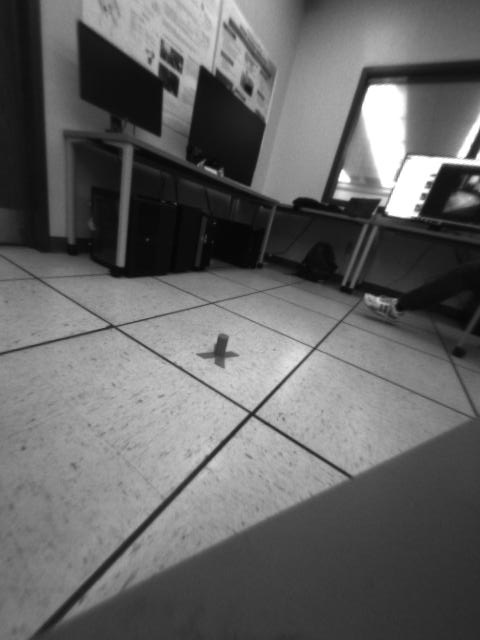X: (194, 333, 241, 370)
